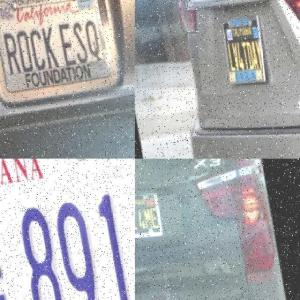Plate: (0, 166, 135, 300), (0, 0, 118, 96), (219, 12, 273, 86), (135, 186, 165, 242)
